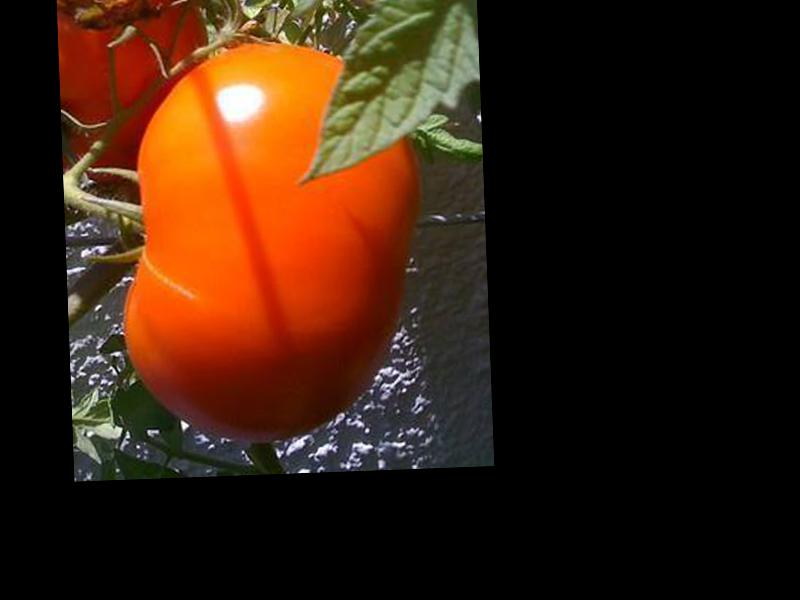Tomato: (112, 36, 427, 446)
